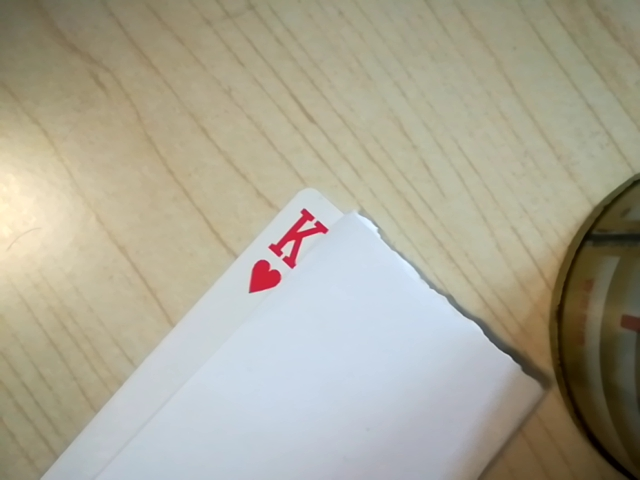hx k: (240, 207, 331, 294)
